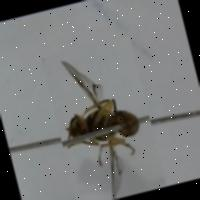Oriental-fruit-fly: (41, 36, 167, 200)
